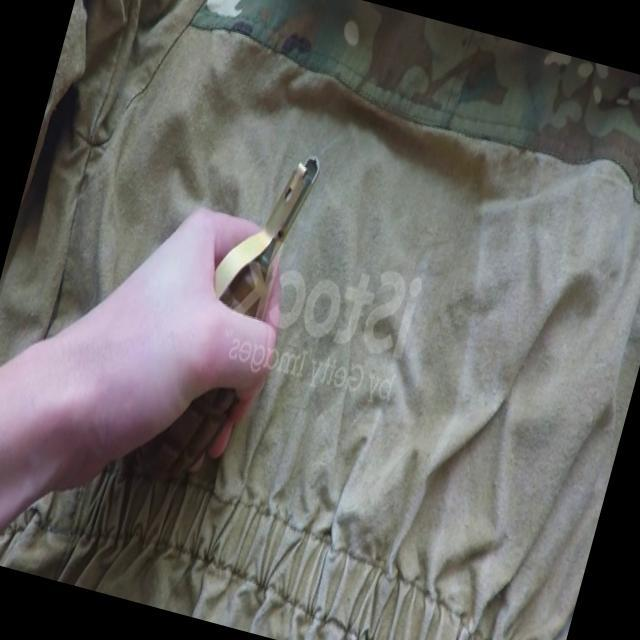grenade: (128, 128, 320, 500)
